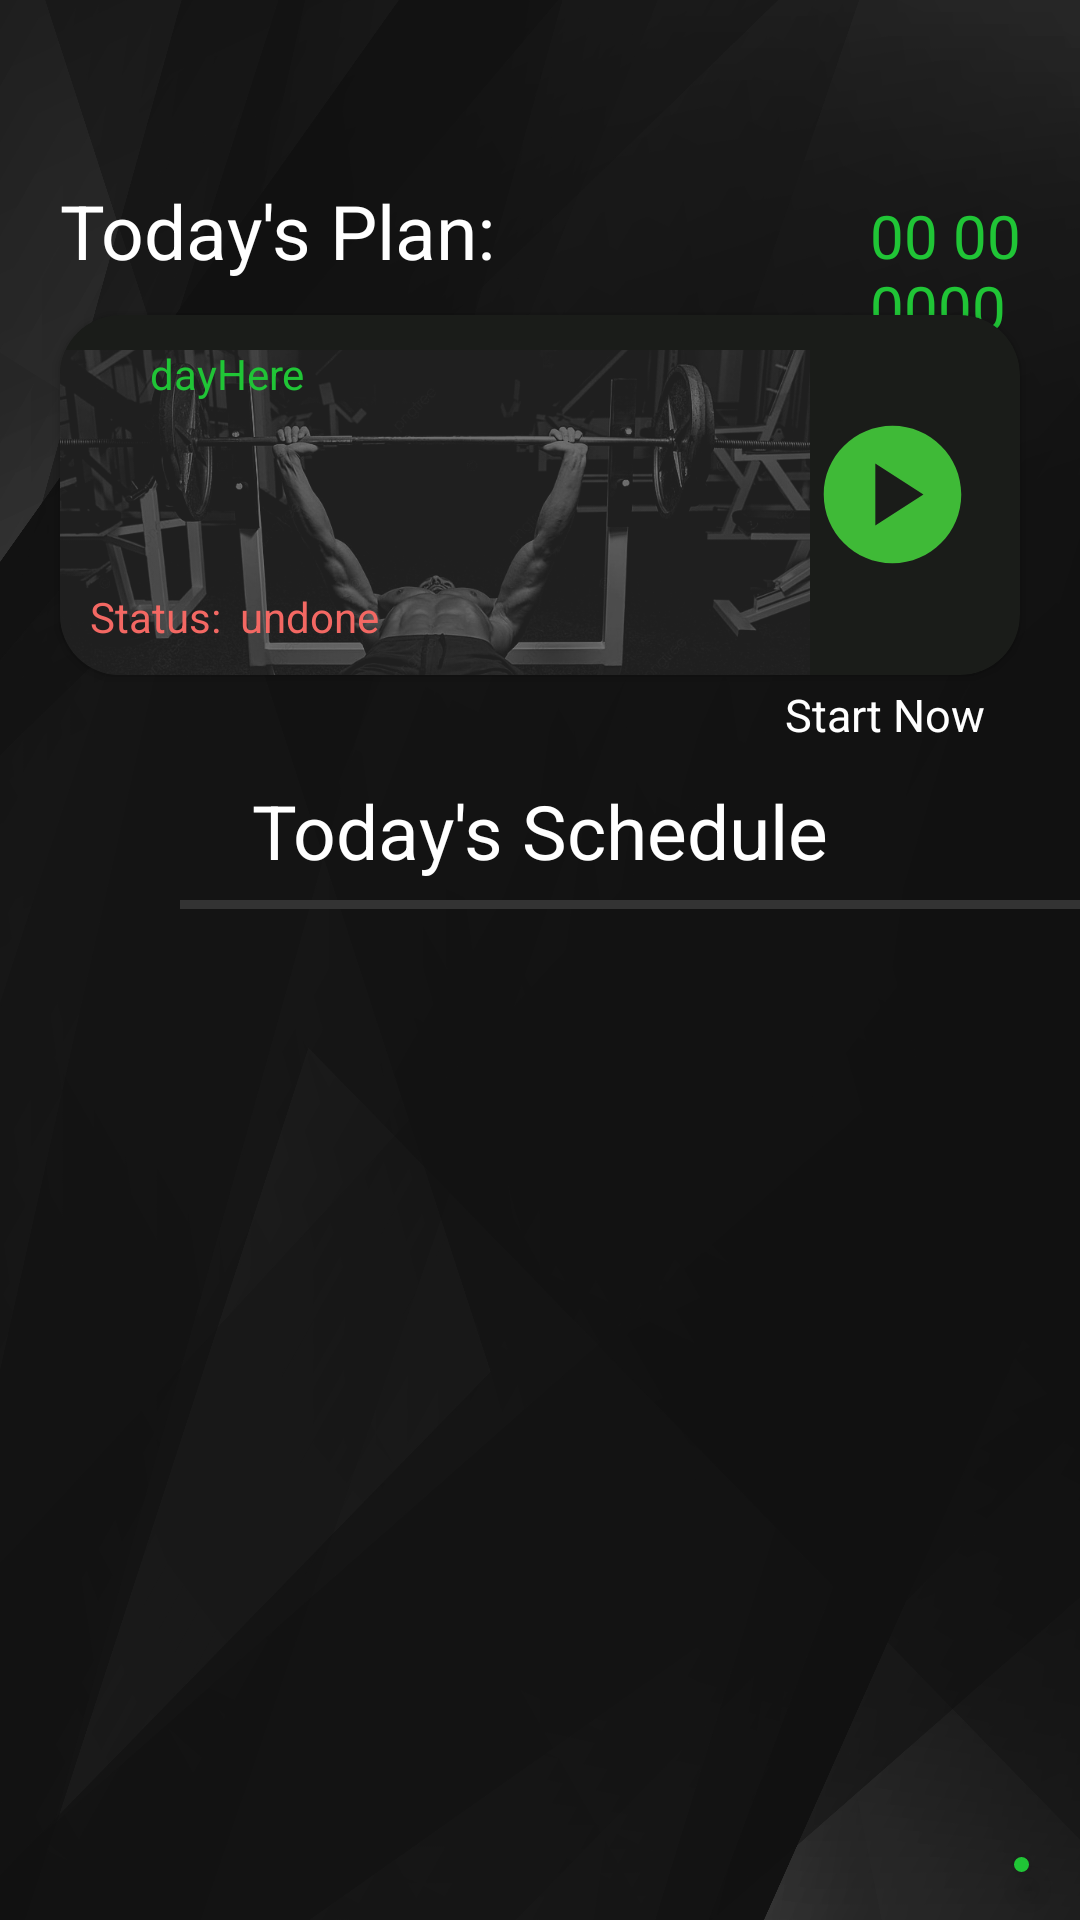

Point at icon controls on the screen. Image size 1080*1920, points as [x,y].
play circle: [892,494]
